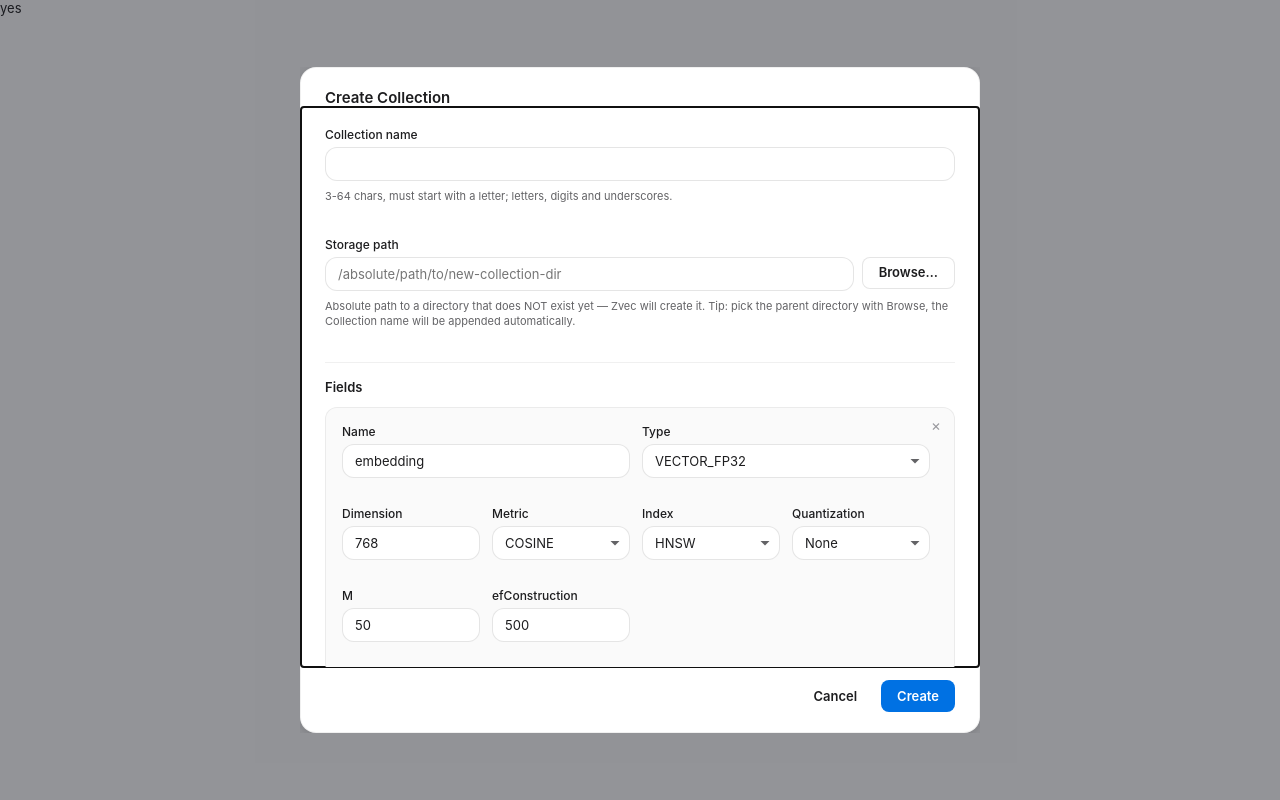
it: <CreateCollectionDialog /> › rejects an out-of-range dimension
Type "ok" into the field with test id "zv-create-name" at [640, 164], box [325,147,955,181]
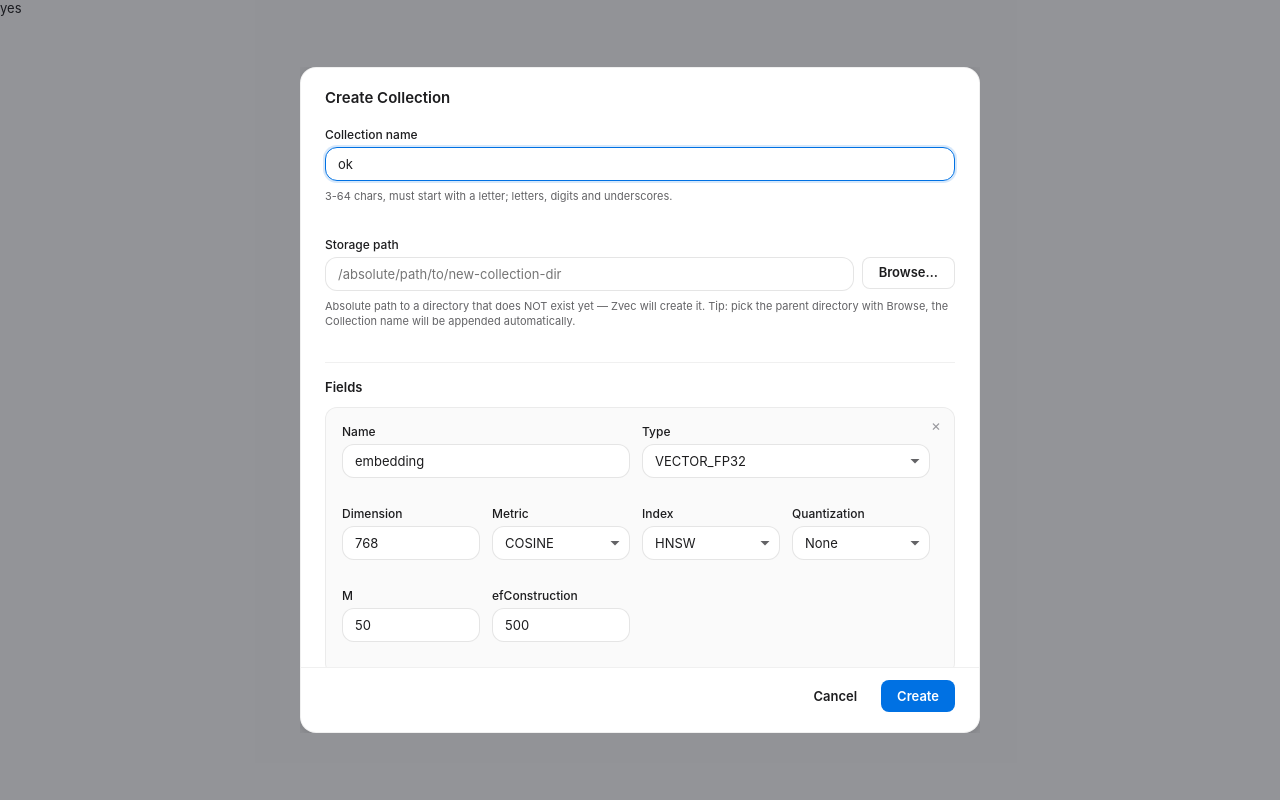
Type "/tmp/ok" into the field with test id "zv-create-path" at [589, 274], box [325,257,854,291]
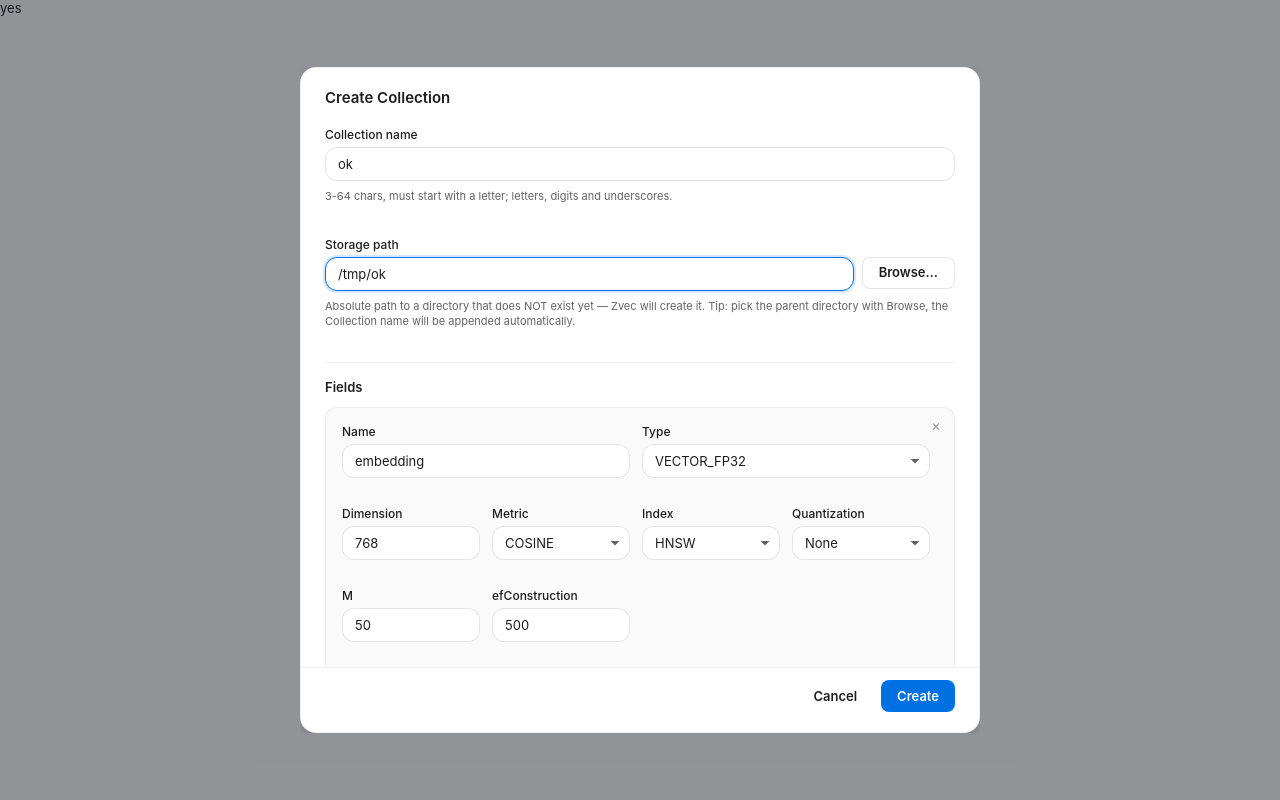
Replace the text in the number field labelled "Dimension" with "0" at [411, 543], box [342,526,480,560]
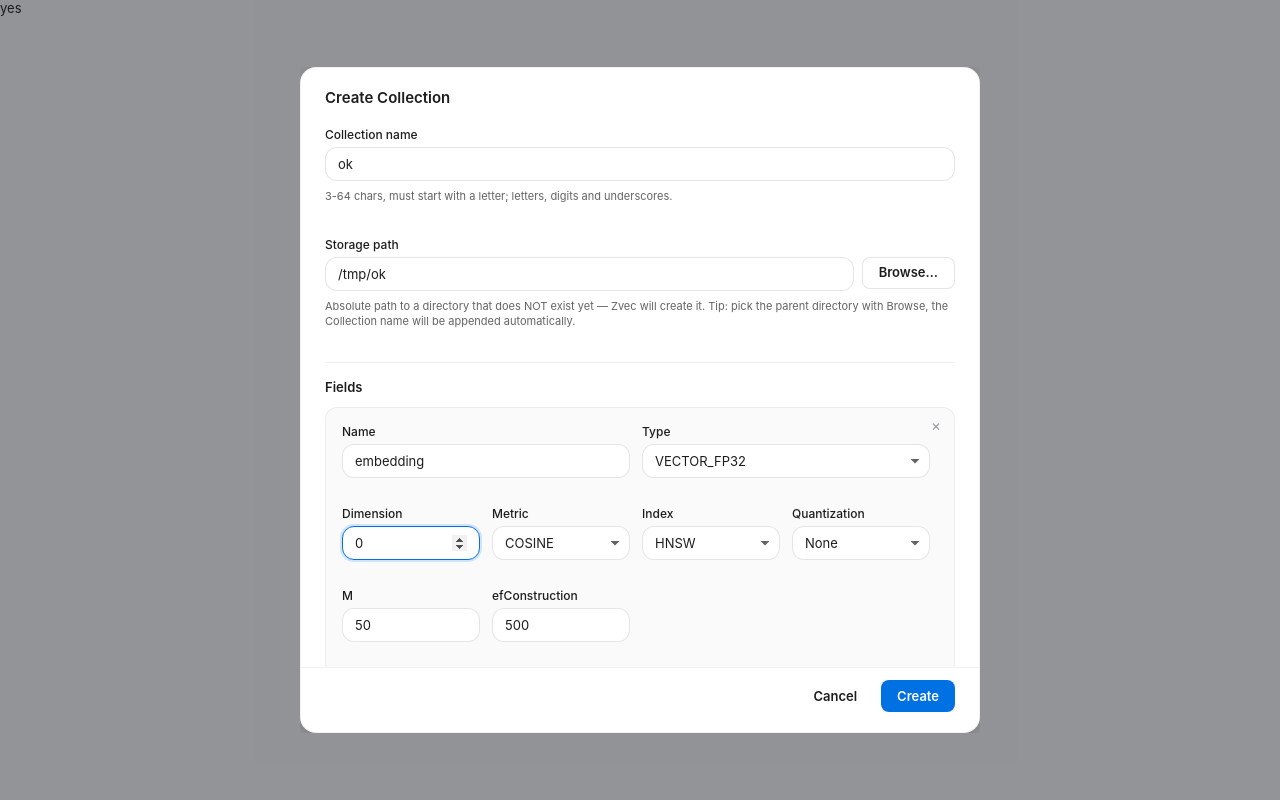
Click the button with test id "zv-create-submit" at [918, 696], box [881,680,955,712]
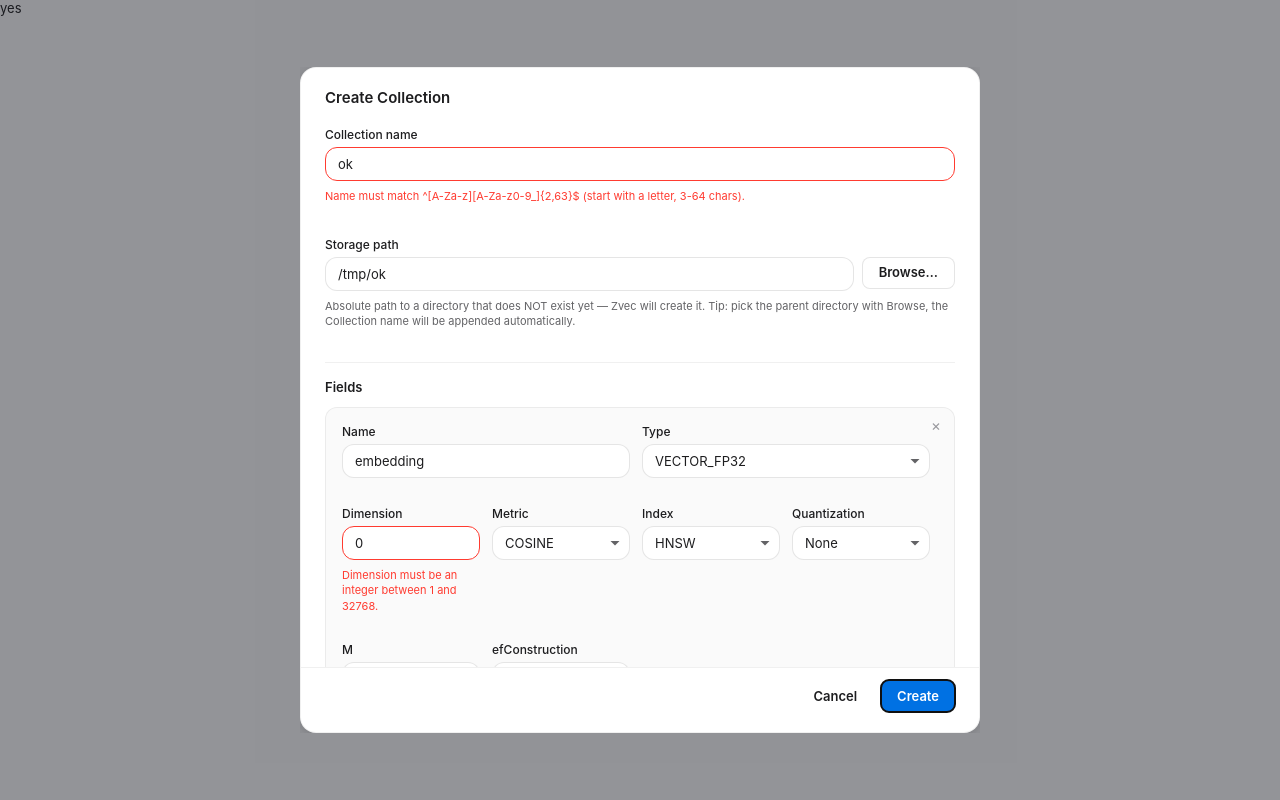
Check: the text "Dimension must be an integer between 1 and 32768." is shown, box [342,568,457,613]
